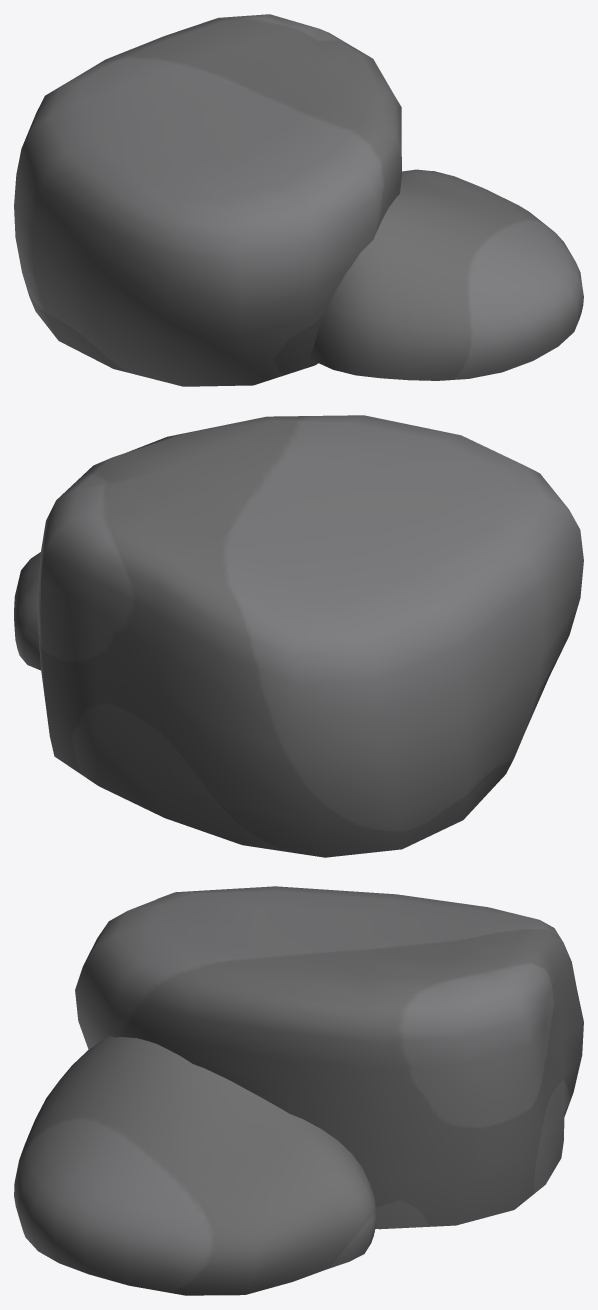
File: rock-bg.fbx
3 views of the same model, one above another, from view 1: azimuth 30°, elevation 25°; view 2: azimuth 150°, elevation 25°; view 3: azimuth 270°, elevation 25° (orthographic). The views are drawn at different scales.
Visible parts, largest first — view 1: rocks-big; view 2: rocks-big; view 3: rocks-big.
Boxes of the visible parts, bbox=[...] form: rocks-big: bbox=[14, 14, 583, 386]; rocks-big: bbox=[14, 415, 583, 857]; rocks-big: bbox=[14, 886, 583, 1295].
Bounding box in the file's own units: 6 × 2.97 × 6.03.
